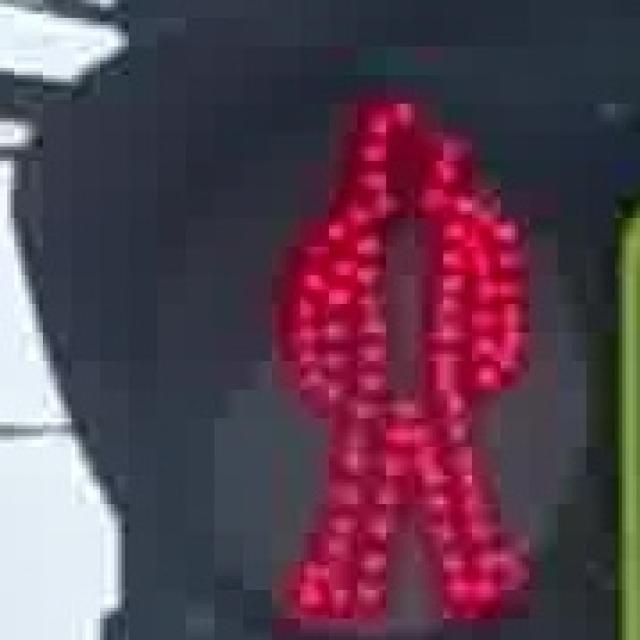red_light: (240, 68, 550, 626)
